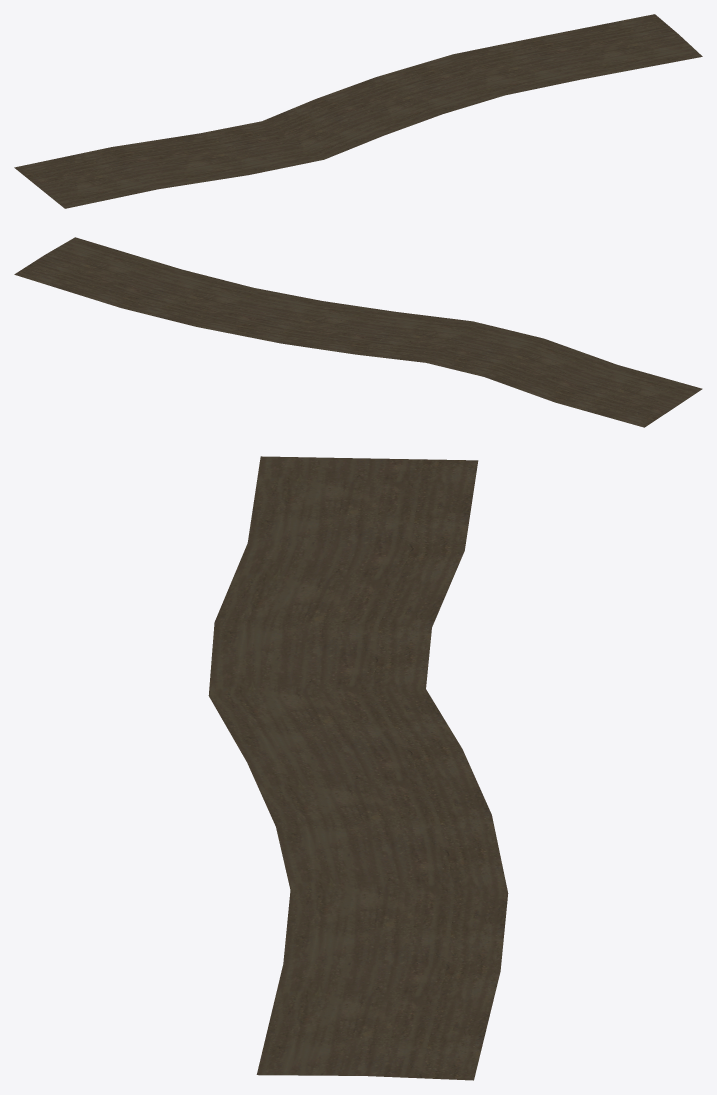
The model's file is blend_path03.fbx.
The picture shows the model from 3 angles, top to bottom: view 1: azimuth 30°, elevation 25°; view 2: azimuth 150°, elevation 25°; view 3: azimuth 270°, elevation 25°; orthographic projection. The views are drawn at different scales.
Visible parts, largest first — view 1: blend_path03-0; view 2: blend_path03-0; view 3: blend_path03-0.
Boxes of the visible parts, x1,y1,x2,y2 form: blend_path03-0: [14, 14, 702, 208]; blend_path03-0: [14, 237, 702, 427]; blend_path03-0: [208, 456, 508, 1080].
Bounding box in the file's own units: 36.06 × 0.2101 × 7.36.
